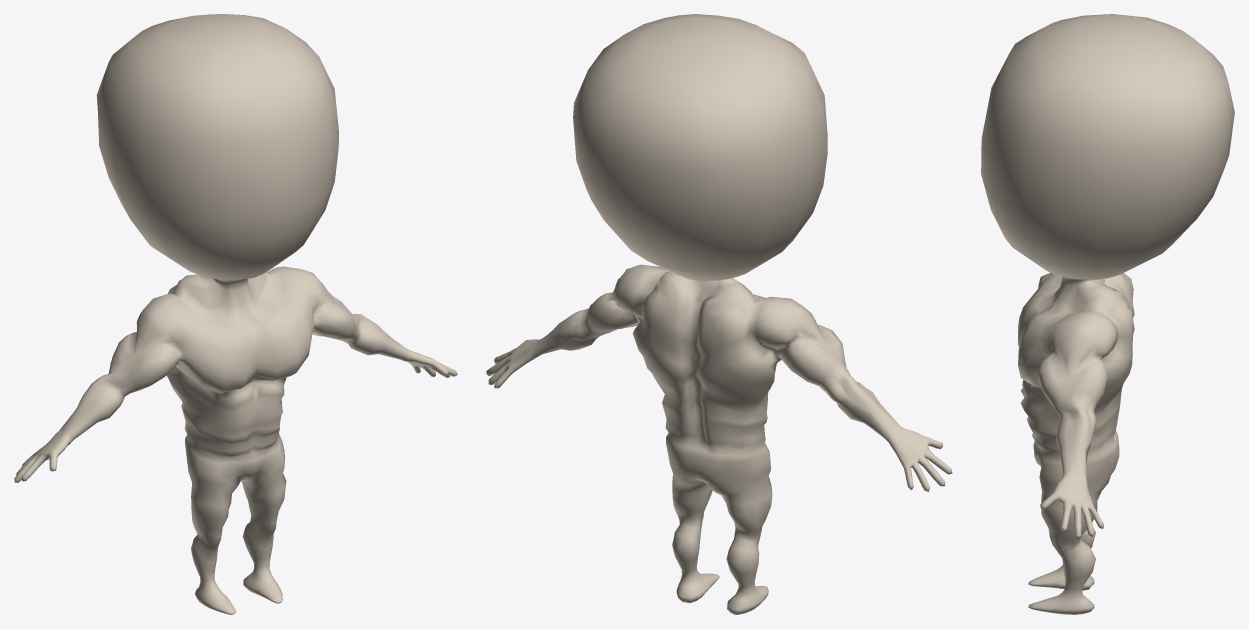
Rendered from VeryLowPolySamSubstancePainter.fbx.
The picture shows the model from 3 angles, left to right: view 1: azimuth 30°, elevation 25°; view 2: azimuth 150°, elevation 25°; view 3: azimuth 270°, elevation 25°; orthographic projection. The views are drawn at different scales.
Parts seen in each view (by area): view 1: LowPolySamTestSmooth; view 2: LowPolySamTestSmooth; view 3: LowPolySamTestSmooth.
Boxes of the visible parts, x1,y1,x2,y2 form: LowPolySamTestSmooth: (14, 14, 457, 614); LowPolySamTestSmooth: (486, 14, 952, 614); LowPolySamTestSmooth: (981, 14, 1234, 614).
Bounding box in the file's own units: 225 × 274 × 111.
